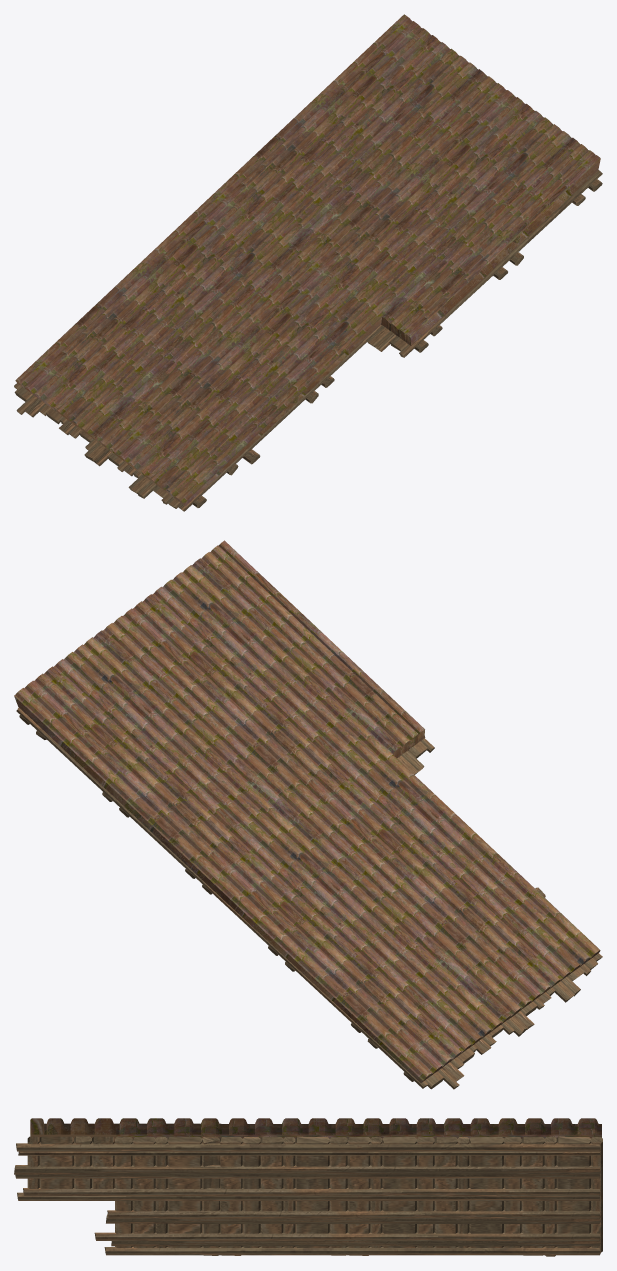
Rendered from SM_roof_01_side_01.fbx.
The picture shows the model from 3 angles, top to bottom: view 1: azimuth 30°, elevation 25°; view 2: azimuth 150°, elevation 25°; view 3: azimuth 270°, elevation 25°; orthographic projection. The views are drawn at different scales.
Visible parts, largest first — view 1: SM_roof_01_side_01_LOD0; view 2: SM_roof_01_side_01_LOD0; view 3: SM_roof_01_side_01_LOD0.
Part boxes in pixels (x1=…): SM_roof_01_side_01_LOD0: x1=14, y1=14, x2=602, y2=511; SM_roof_01_side_01_LOD0: x1=14, y1=540, x2=602, y2=1089; SM_roof_01_side_01_LOD0: x1=14, y1=1118, x2=602, y2=1256.
Bounding box in the file's own units: 751 × 659 × 517.
2 materials, 2 textured.
